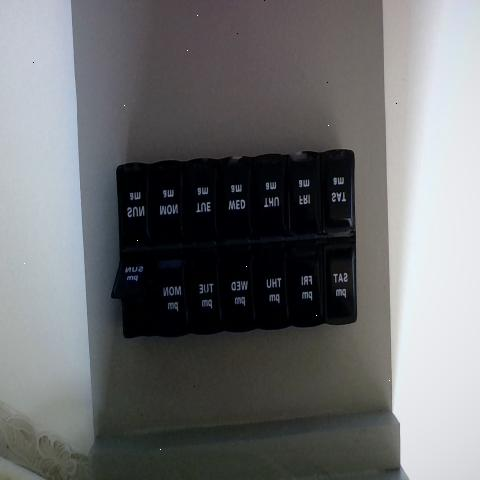FRI-am: (294, 152, 322, 229)
FRI-pm: (294, 246, 325, 326)
MON-am: (156, 164, 190, 245)
MON-pm: (158, 247, 194, 330)
Open: (112, 254, 157, 332)
PillBox: (106, 112, 368, 354)
SAT-am: (324, 146, 359, 228)
SAT-pm: (326, 240, 360, 323)
SUN-am: (119, 162, 152, 248)
THU-am: (257, 157, 290, 239)
THU-pm: (262, 244, 296, 331)
TUE-am: (194, 161, 226, 239)
TUE-pm: (195, 253, 226, 334)
WED-am: (225, 156, 256, 238)
WED-pm: (228, 247, 264, 325)
